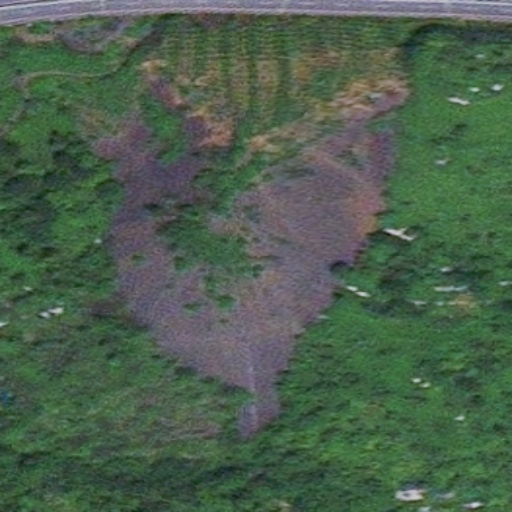landslide: (101, 96, 389, 434)
